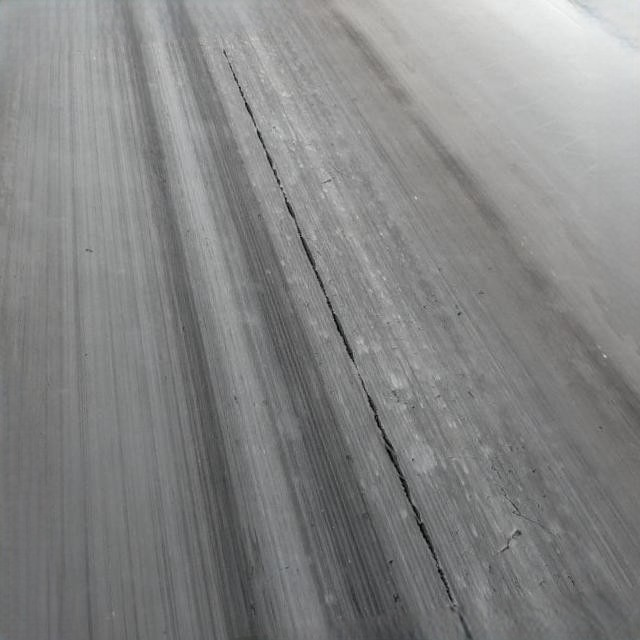Tear: (206, 9, 472, 628)
